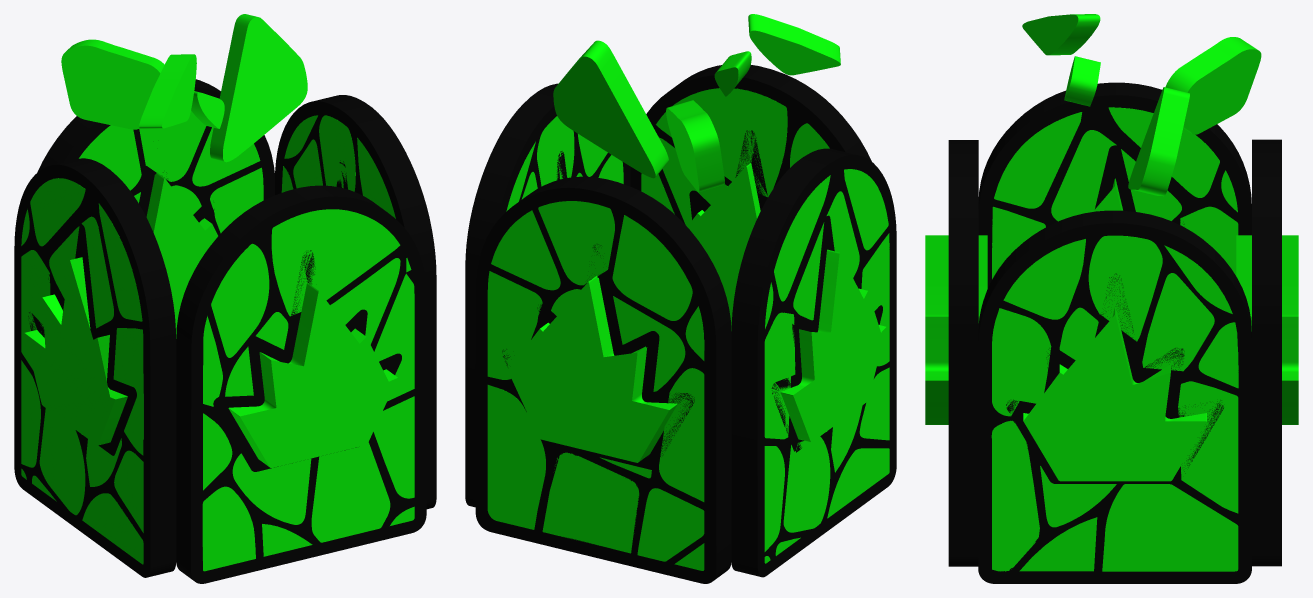
Rendered from Amplifier.fbx.
3 views of the same model, side by side, from view 1: azimuth 30°, elevation 25°; view 2: azimuth 150°, elevation 25°; view 3: azimuth 270°, elevation 25° (orthographic). The views are drawn at different scales.
Visible parts, largest first — view 1: Fill_32, Fill_49, Fill_1_2, Fill_16, Fill_33, Fill, Fill_31, Fill_1, Fill_30, Fill_64, Fill_2_3, Fill_29 (+31 smaller); view 2: Fill_64, Fill_49, Fill_2_3, Fill_33, Fill_16, Fill, Fill_32, Fill_63, Fill_62, Fill_31, Fill_61, Fill_1_2 (+26 smaller); view 3: Fill_16, Fill_15, Fill_49, Fill_32, Fill_64, Fill_14, Fill_11, Fill_13, Fill_10, Fill_1, Fill_1_2, Fill_12 (+17 smaller).
Part boxes in pixels (x1=…): Fill_32: x1=176, y1=185, x2=426, y2=583; Fill_49: x1=14, y1=158, x2=176, y2=577; Fill_1_2: x1=228, y1=282, x2=397, y2=467; Fill_16: x1=275, y1=95, x2=436, y2=509; Fill_33: x1=24, y1=257, x2=127, y2=445; Fill: x1=210, y1=14, x2=307, y2=162; Fill_31: x1=271, y1=209, x2=400, y2=316; Fill_1: x1=61, y1=39, x2=164, y2=129; Fill_30: x1=311, y1=442, x2=390, y2=542; Fill_64: x1=37, y1=79, x2=274, y2=235; Fill_2_3: x1=146, y1=172, x2=217, y2=338; Fill_29: x1=211, y1=243, x2=269, y2=357; Fill_64: x1=475, y1=176, x2=731, y2=583; Fill_49: x1=731, y1=148, x2=896, y2=577; Fill_2_3: x1=508, y1=276, x2=677, y2=462; Fill_33: x1=780, y1=249, x2=886, y2=442; Fill_16: x1=465, y1=83, x2=630, y2=507; Fill: x1=553, y1=40, x2=668, y2=178; Fill_32: x1=630, y1=65, x2=871, y2=224; Fill_63: x1=542, y1=452, x2=639, y2=553; Fill_62: x1=487, y1=385, x2=545, y2=529; Fill_31: x1=656, y1=88, x2=787, y2=197; Fill_61: x1=612, y1=215, x2=692, y2=320; Fill_1_2: x1=687, y1=163, x2=760, y2=330; Fill_16: x1=978, y1=210, x2=1251, y2=583; Fill_15: x1=1023, y1=306, x2=1206, y2=481; Fill_49: x1=978, y1=82, x2=1251, y2=288; Fill_32: x1=948, y1=140, x2=978, y2=566; Fill_64: x1=1252, y1=139, x2=1281, y2=566; Fill_14: x1=1102, y1=484, x2=1238, y2=571; Fill_11: x1=1178, y1=381, x2=1238, y2=513; Fill_13: x1=991, y1=420, x2=1039, y2=571; Fill_10: x1=1088, y1=235, x2=1162, y2=341; Fill_1: x1=1165, y1=37, x2=1261, y2=134; Fill_1_2: x1=925, y1=235, x2=987, y2=424; Fill_12: x1=992, y1=308, x2=1051, y2=416.
Bounding box in the file's own units: 20.59 × 29.28 × 20.95.
